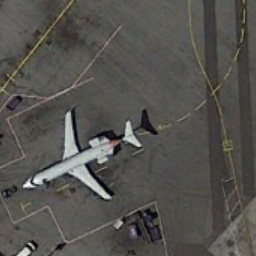Airplane: (14, 108, 145, 204)
